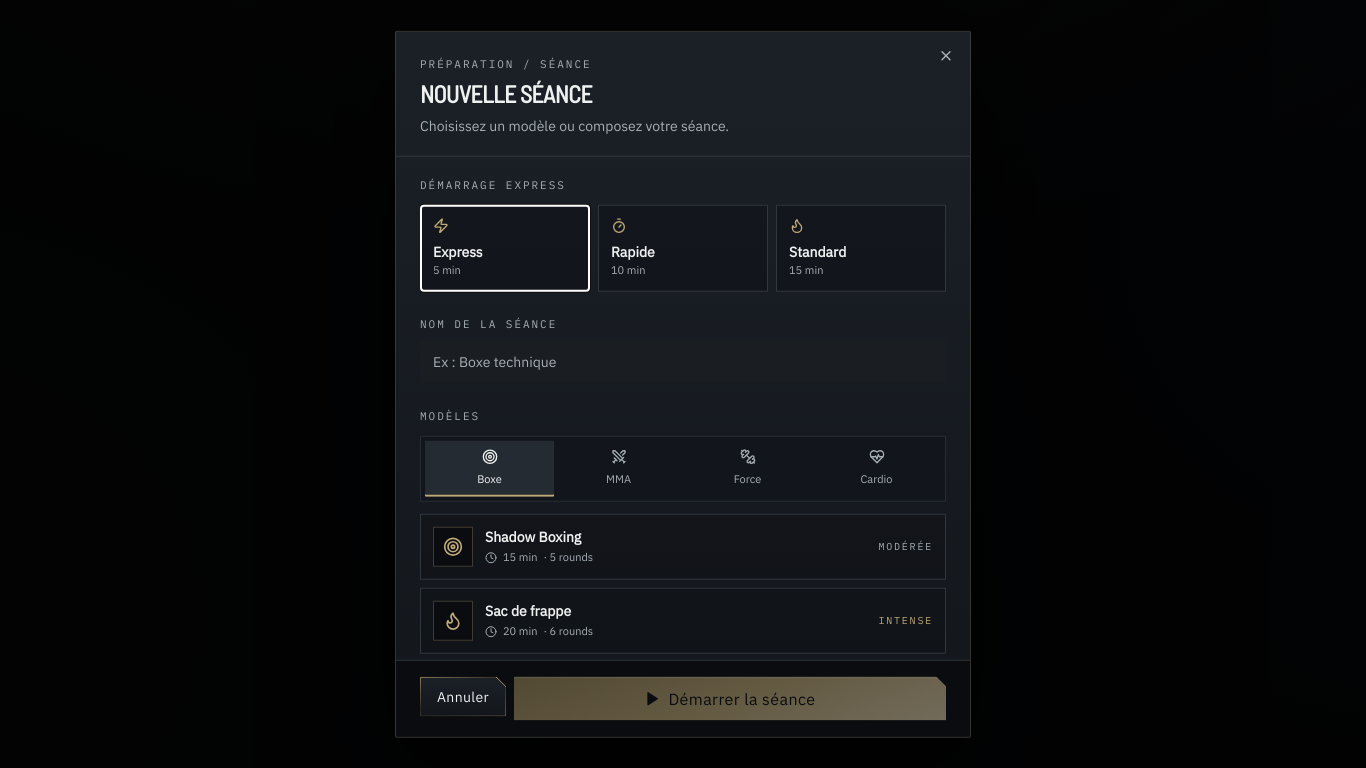
Test case: StartWorkoutDialogV2 - Form Submission › should enable start button when name is filled
The image size is (1366, 768).
Type "Test" into the field labelled "Nom de la séance". click: (683, 361)
box: 420,339 -> 946,383
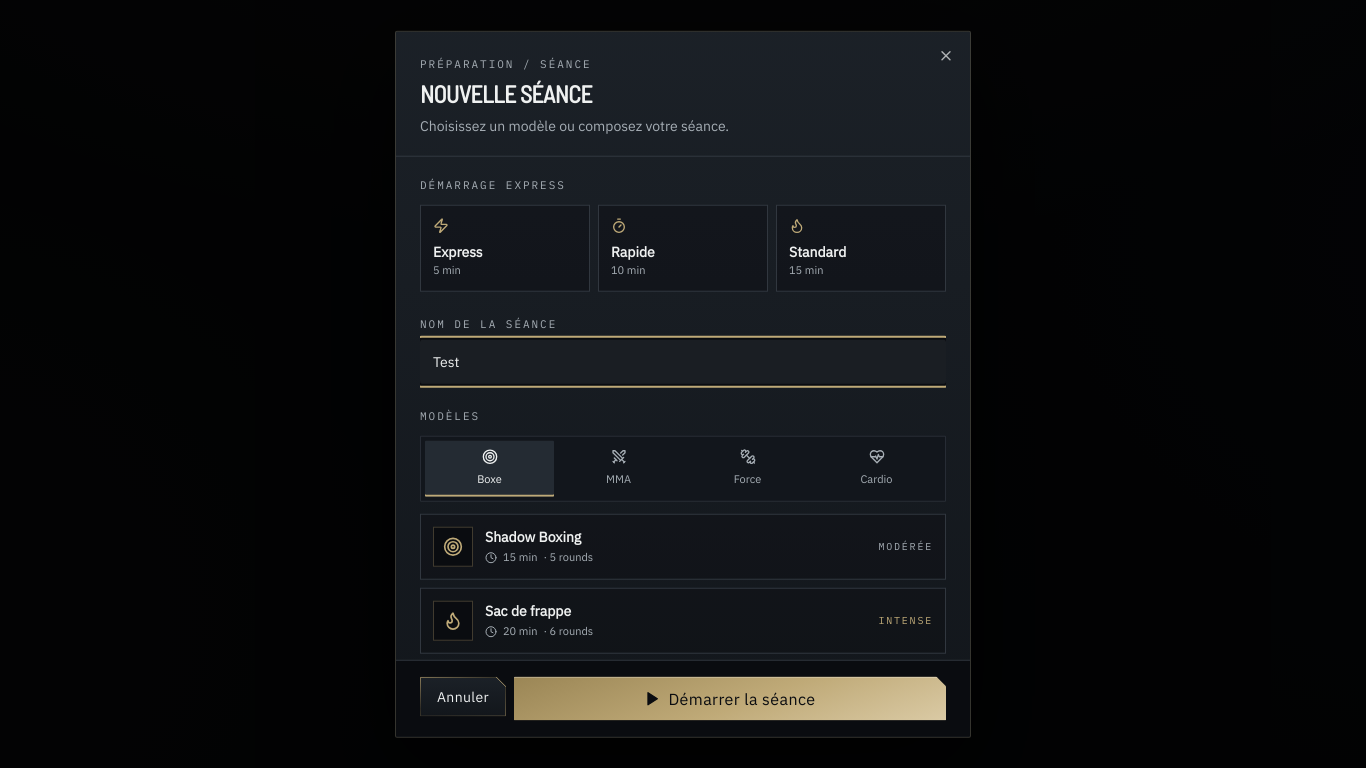
Check: the button "Démarrer la séance" is enabled, box 514,676 -> 946,720
